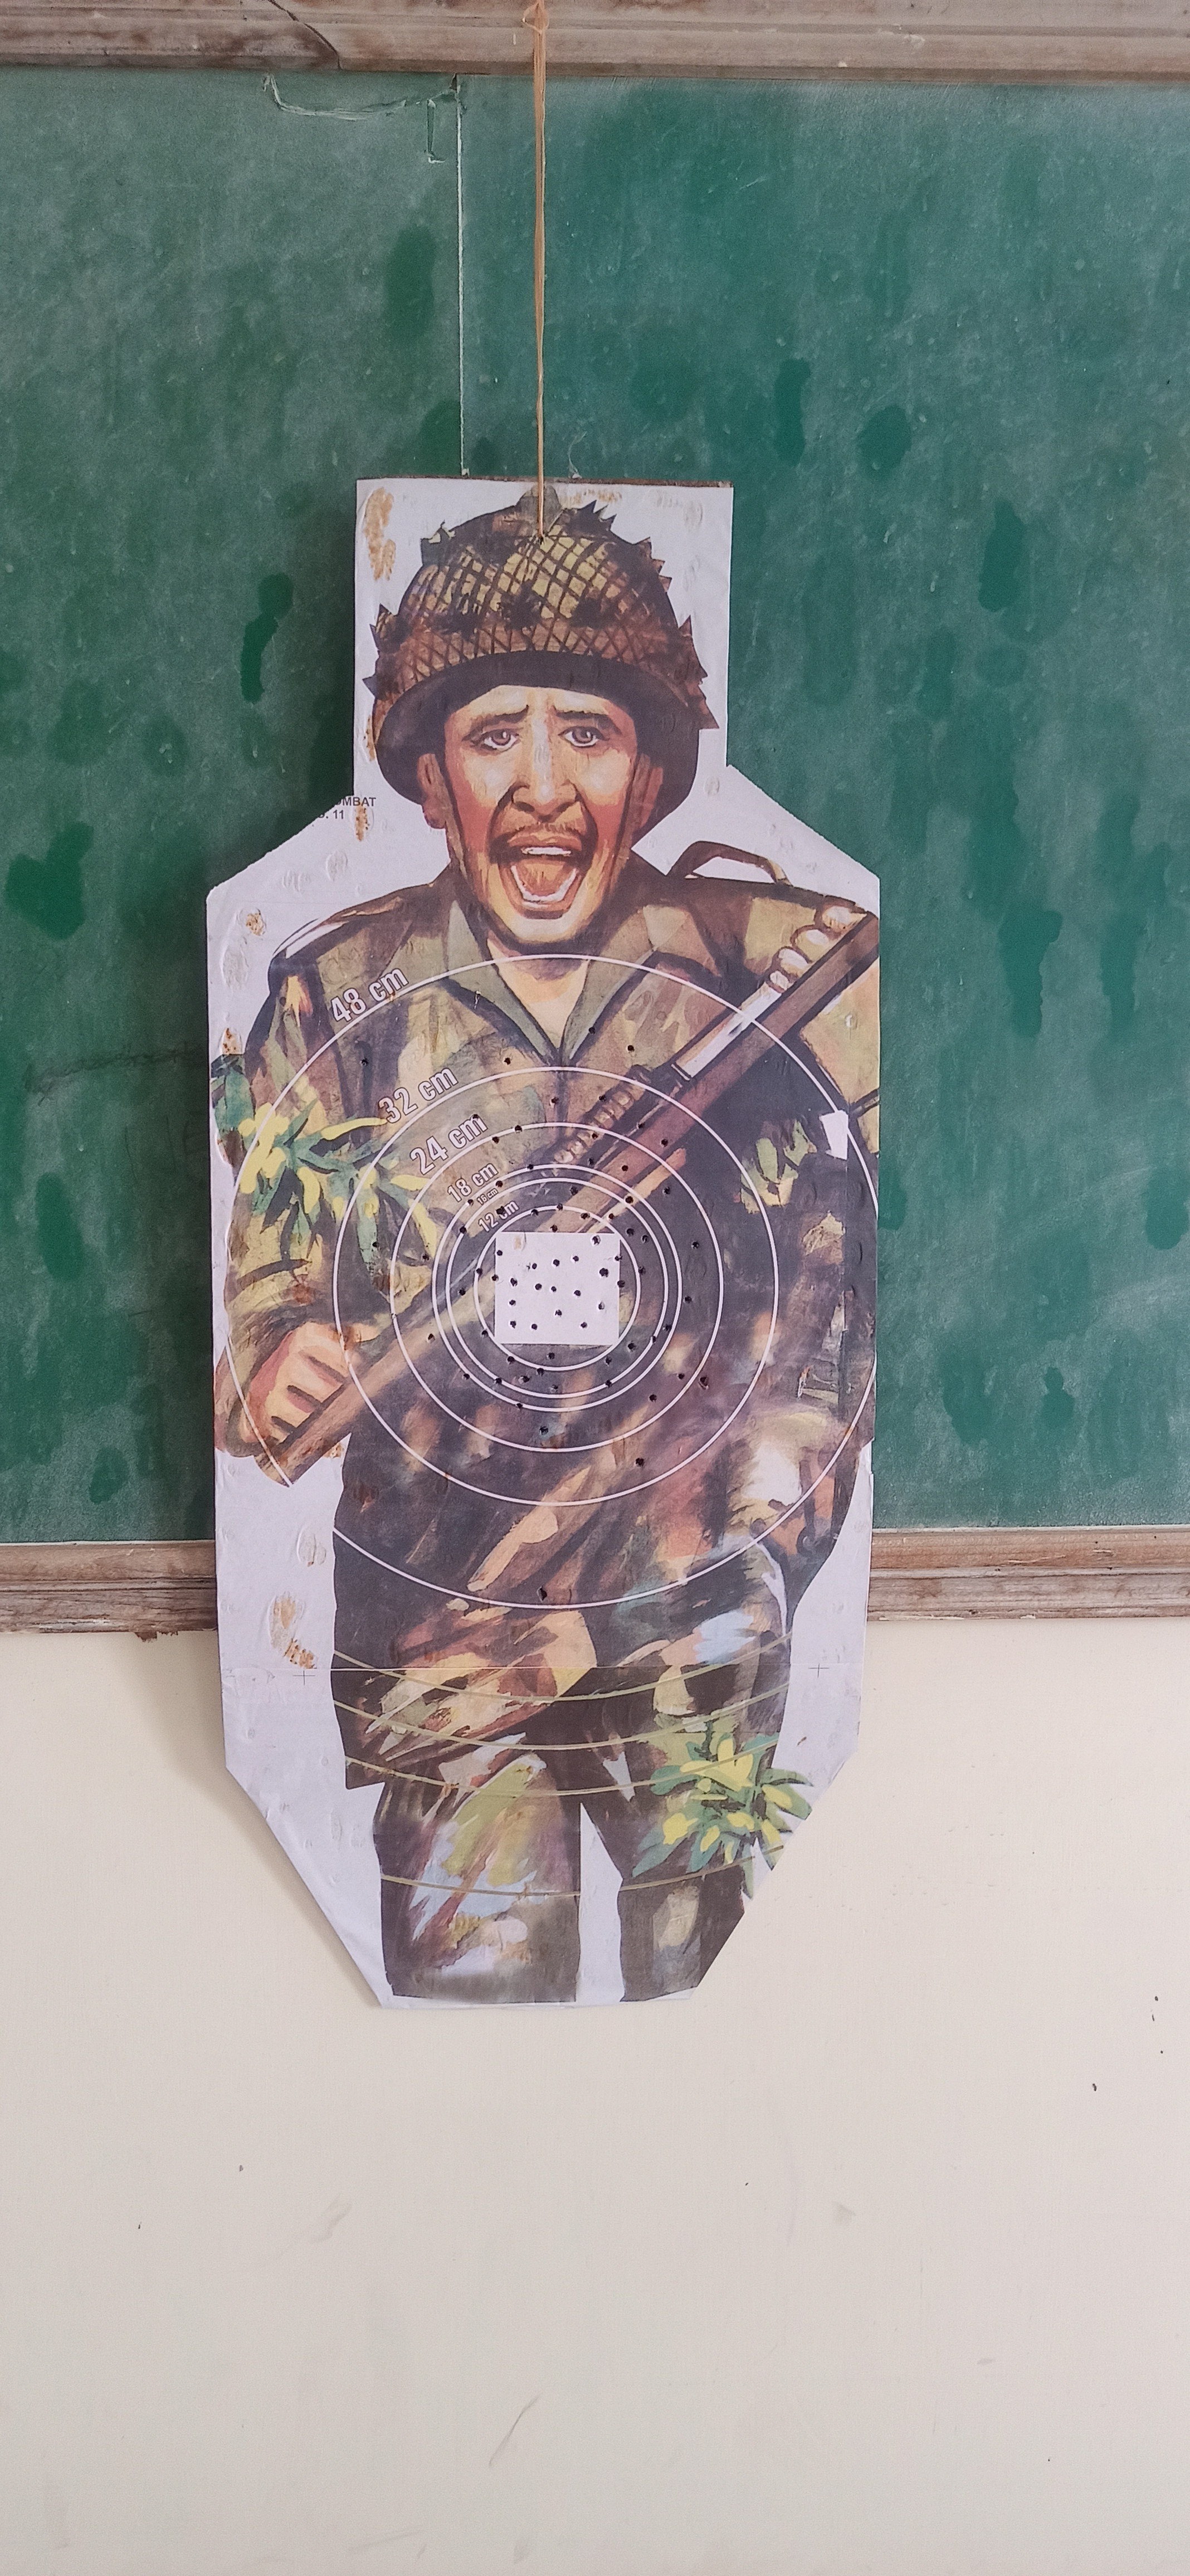bullet hit: (628, 1451, 653, 1477), (694, 1368, 715, 1393), (533, 1585, 554, 1608), (685, 1237, 703, 1255), (355, 1053, 371, 1071), (546, 1092, 562, 1111), (583, 1023, 600, 1038), (595, 1091, 610, 1107), (536, 1423, 551, 1439), (657, 1135, 672, 1152), (679, 1293, 697, 1306), (674, 1370, 689, 1385), (661, 1183, 676, 1198), (503, 1055, 516, 1069), (634, 1119, 648, 1134), (371, 1237, 385, 1252), (511, 1122, 524, 1137), (531, 1280, 546, 1293), (493, 1373, 505, 1390), (636, 1263, 648, 1280), (638, 1234, 651, 1247), (623, 1226, 636, 1239), (648, 1391, 661, 1405), (519, 1373, 533, 1387), (620, 1163, 633, 1176), (505, 1355, 518, 1368), (472, 1265, 485, 1278), (493, 1247, 506, 1260), (595, 1299, 608, 1313), (419, 1250, 431, 1265), (495, 1206, 510, 1217), (626, 1043, 638, 1058), (588, 1130, 603, 1142), (424, 1332, 439, 1344), (661, 1322, 676, 1334), (552, 1308, 567, 1319), (598, 1265, 610, 1280), (508, 1275, 519, 1290), (508, 1296, 519, 1311), (569, 1183, 579, 1199), (529, 1207, 541, 1221), (554, 1201, 565, 1214), (603, 1378, 616, 1390), (549, 1382, 562, 1393), (623, 1194, 636, 1206), (478, 1329, 491, 1341), (457, 1285, 468, 1298), (613, 1252, 625, 1265), (615, 1278, 626, 1291), (572, 1286, 583, 1299), (508, 1319, 519, 1332), (649, 1331, 659, 1345), (603, 1354, 613, 1368), (579, 1211, 590, 1222), (472, 1111, 483, 1122), (514, 1401, 526, 1413), (491, 1135, 503, 1147), (585, 1157, 597, 1168), (592, 1234, 603, 1245), (570, 1253, 582, 1265), (551, 1258, 562, 1270), (490, 1273, 501, 1285), (529, 1321, 541, 1332), (465, 1196, 475, 1209), (457, 1226, 470, 1235), (495, 1176, 505, 1189), (462, 1372, 473, 1382), (537, 1367, 547, 1378), (549, 1222, 559, 1234), (528, 1262, 539, 1272), (579, 1319, 590, 1329), (546, 1350, 557, 1360), (524, 1161, 534, 1171), (607, 1212, 616, 1222), (626, 1342, 638, 1350), (549, 1285, 560, 1293)
white box: (493, 1229, 625, 1349)
